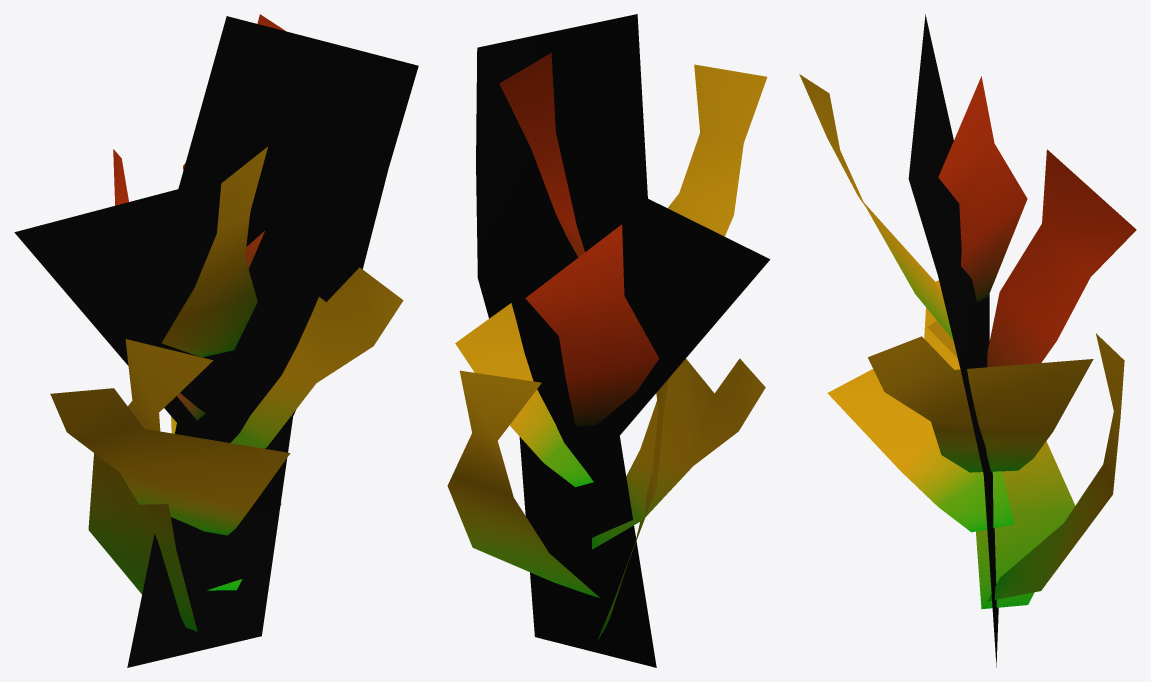
File: Var4Hi14.fbx
The picture shows the model from 3 angles, left to right: view 1: azimuth 30°, elevation 25°; view 2: azimuth 150°, elevation 25°; view 3: azimuth 270°, elevation 25°; orthographic projection. The views are drawn at different scales.
Visible parts, largest first — view 1: bend1; view 2: bend1; view 3: bend1.
Part boxes in pixels (box(x1,y1,x2,y2)): bend1: box(14, 14, 418, 667); bend1: box(447, 14, 769, 667); bend1: box(799, 14, 1136, 667).
Size of the model in its own units: 1.31 by 2.31 by 1.14.
